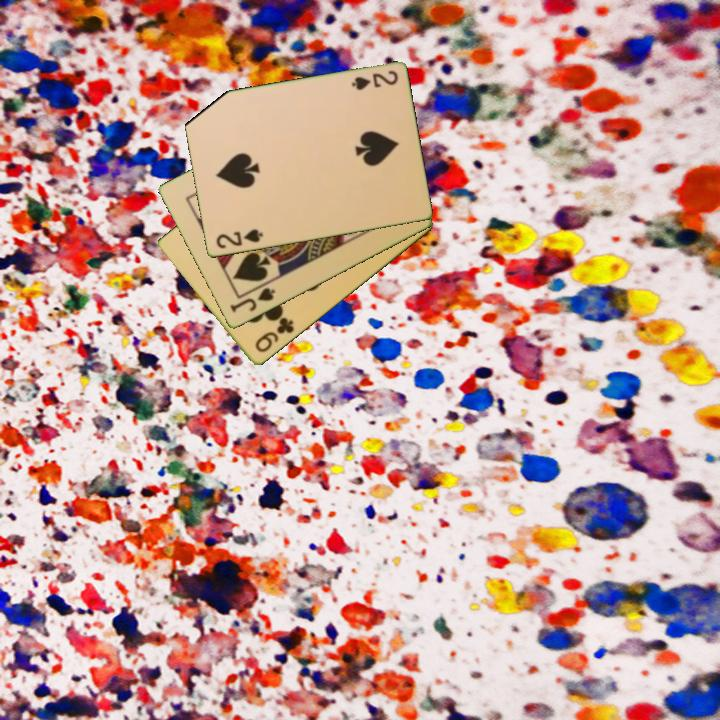2s: (212, 226, 266, 252), (348, 67, 401, 93)
9c: (251, 314, 297, 356)
Js: (226, 284, 278, 316)
